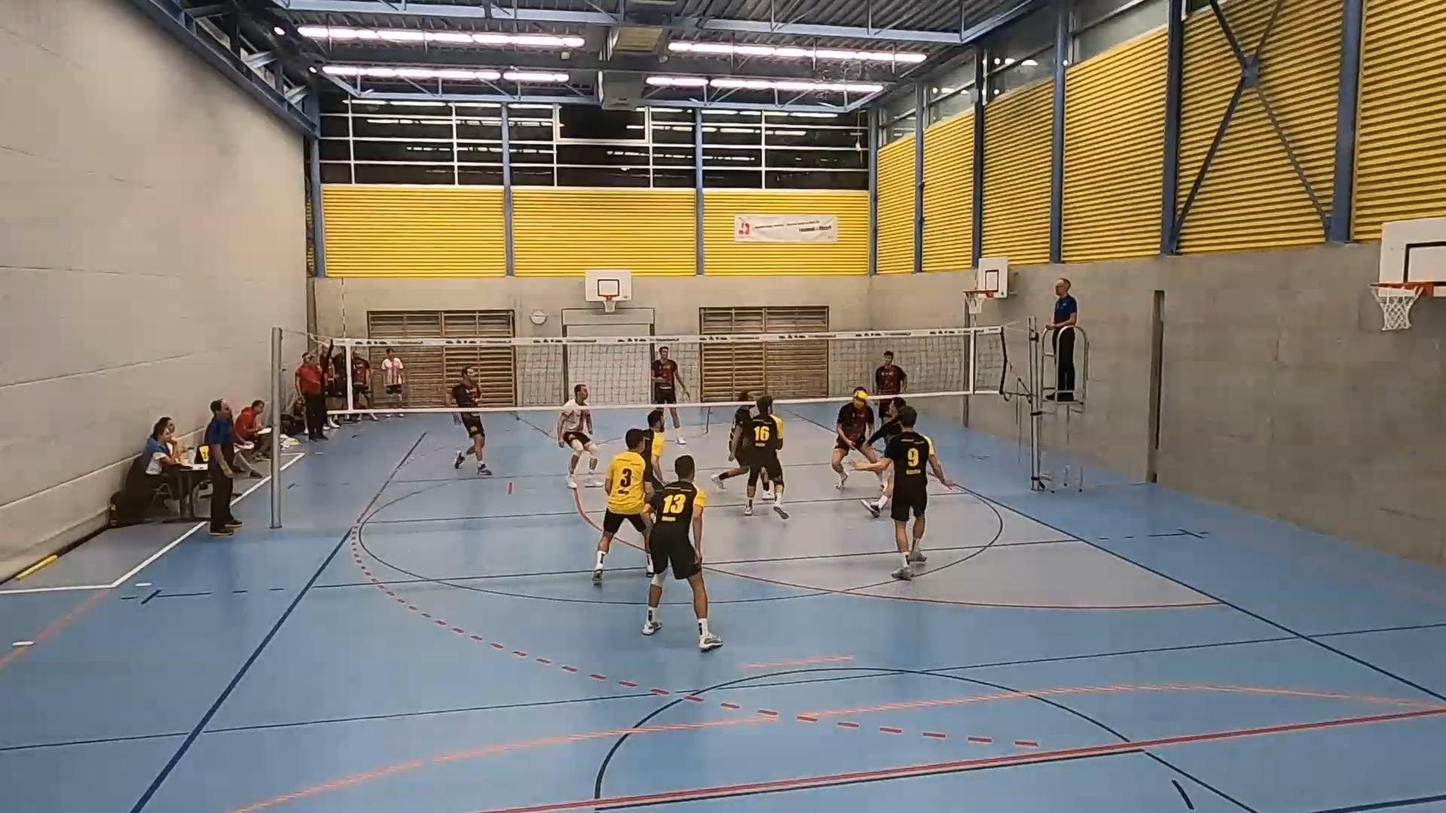Dig: (845, 386, 911, 520)
Player: (856, 406, 955, 580), (642, 455, 721, 650), (592, 428, 648, 583), (744, 395, 788, 519), (831, 388, 878, 489), (557, 384, 599, 489), (451, 367, 491, 475), (651, 347, 687, 444), (712, 404, 752, 489), (643, 409, 664, 492), (874, 351, 907, 395)
